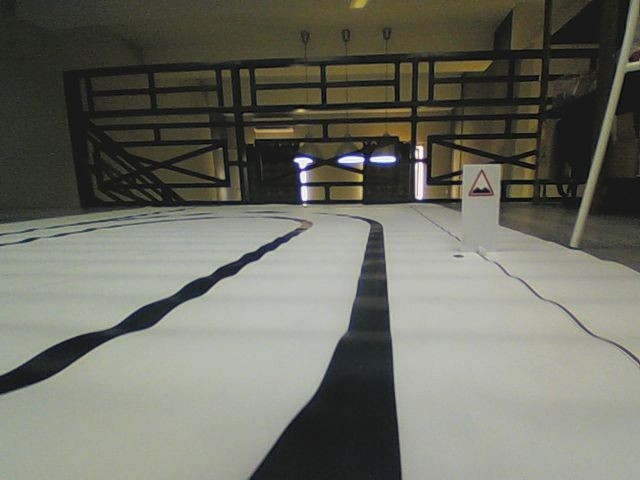Nerov: (466, 167, 496, 198)
